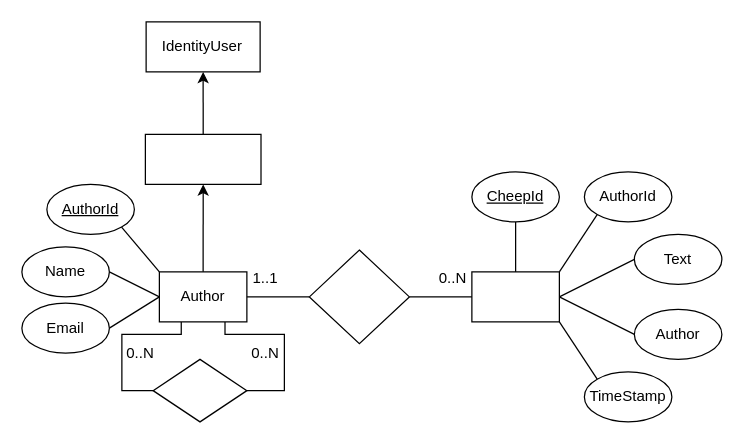
Some shapes in this 744 by 444 pixel diagram are drawn without their labels. Here are the shapes that lost their labels. From the top down, the box of each, then its label:
(144, 133, 261, 184): ApplicationUser
(308, 249, 409, 344): shares/ shared by
(471, 271, 559, 322): Cheep
(152, 358, 247, 422): Follows
